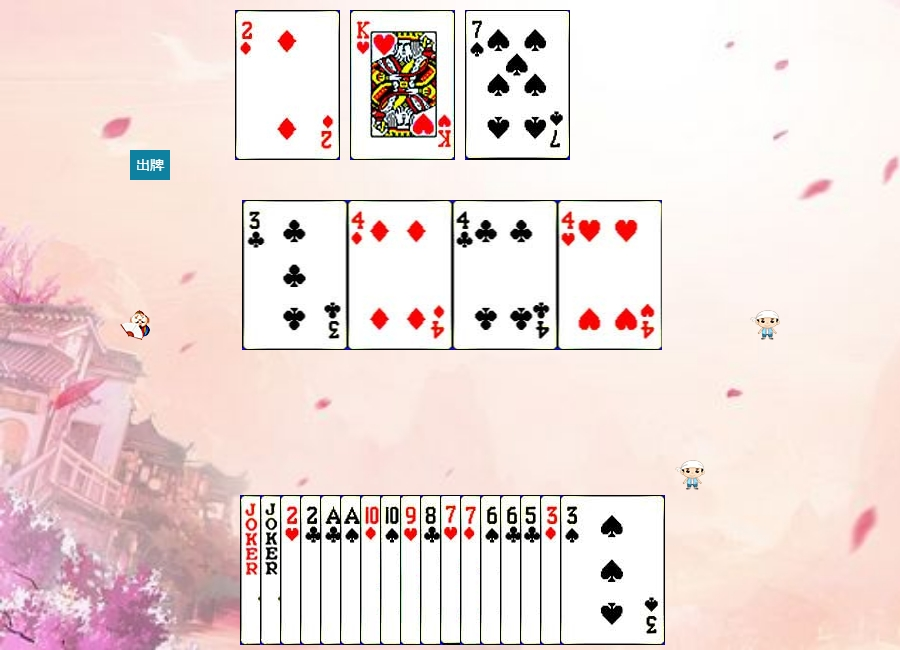10~1: (360, 495, 465, 645)
10~4: (380, 495, 485, 645)
13~3: (350, 10, 455, 160)
14~2: (320, 495, 425, 645)
14~4: (340, 495, 445, 645)
15~1: (235, 10, 340, 160)
15~2: (300, 495, 405, 645)
15~3: (280, 495, 385, 645)
17~3: (260, 495, 365, 645)
18~4: (240, 495, 345, 645)
3~1: (540, 495, 645, 645)
3~2: (243, 200, 348, 350)
3~4: (560, 495, 665, 645)
4~1: (348, 200, 453, 350)
4~2: (453, 200, 558, 350)
4~3: (558, 200, 663, 350)
5~2: (520, 495, 625, 645)
6~2: (500, 495, 605, 645)
6~4: (480, 495, 585, 645)
7~1: (460, 495, 565, 645)
7~3: (440, 495, 545, 645)
7~4: (465, 10, 570, 160)
8~2: (420, 495, 525, 645)
9~3: (400, 495, 505, 645)
